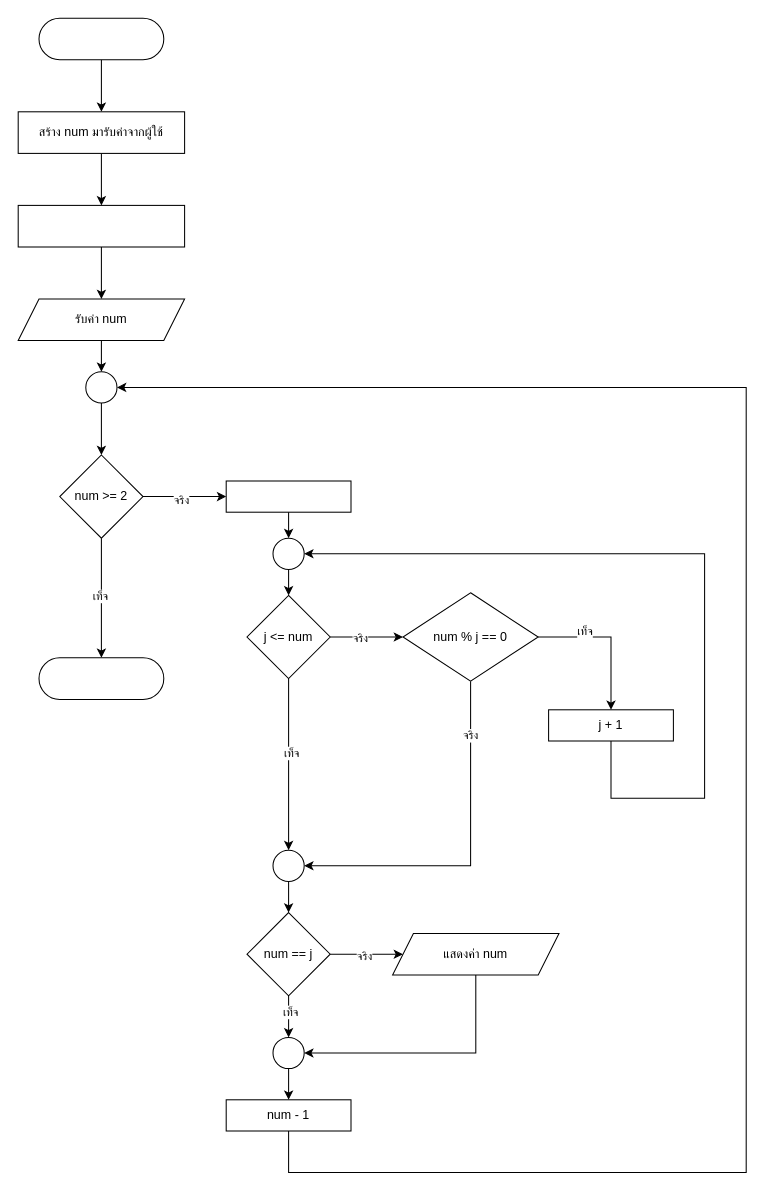
Some shapes in this 773 by 1199 pixel diagram are drawn without their labels. The centre of each missing label's shape, as x and y in pixels:
j = 2: (x=288, y=496)
จบ: (x=101, y=678)
สร้าง j มาวนลูปและเก็บค่า: (x=101, y=225)
เริ่มต้น: (x=101, y=38)
